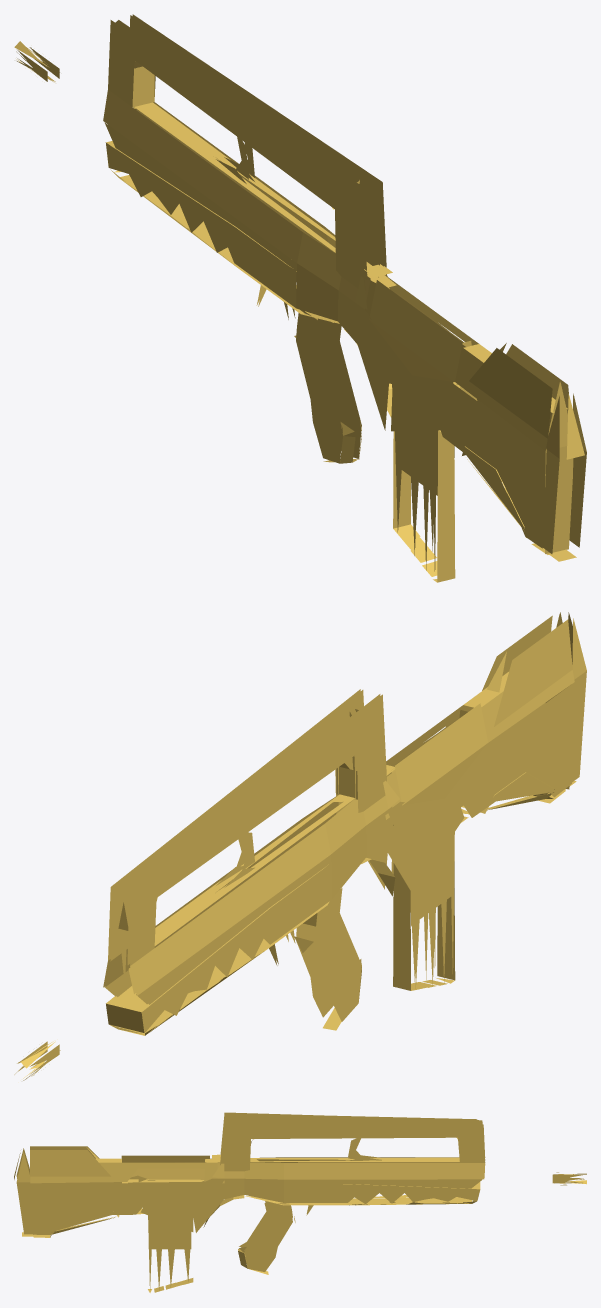
Rendered from charm_mst_fusil_2.glb.
3 renders of one model, top to bottom at view 1: azimuth 30°, elevation 25°; view 2: azimuth 150°, elevation 25°; view 3: azimuth 270°, elevation 25°, orthographic. The views are drawn at different scales.
Visible parts, largest first — view 1: p0_paint; view 2: p0_paint; view 3: p0_paint.
Part boxes in pixels (left/top/right/bottom): p0_paint: left=14, top=14, right=586, bottom=582; p0_paint: left=14, top=612, right=586, bottom=1080; p0_paint: left=14, top=1112, right=586, bottom=1292.
Bounding box in the file's own units: 0.0291 × 0.2565 × 0.757.
